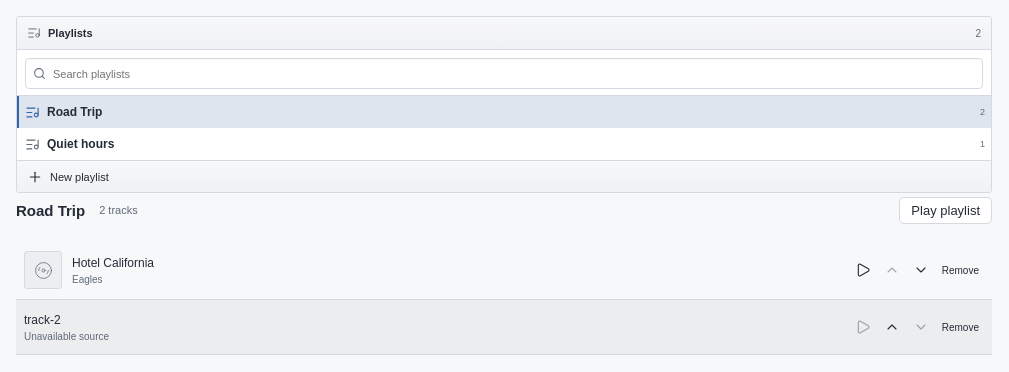
it: PlaylistPanel › selects one playlist from a searchable sidebar instead of showing every track
Check: the text "Hotel California" is shown, box [72,256,154,270]
Check: the text "Nightfall" is not shown
Click the button with aria-label "Open playlist Quiet hours": point(81, 144) [19,128,991,160]
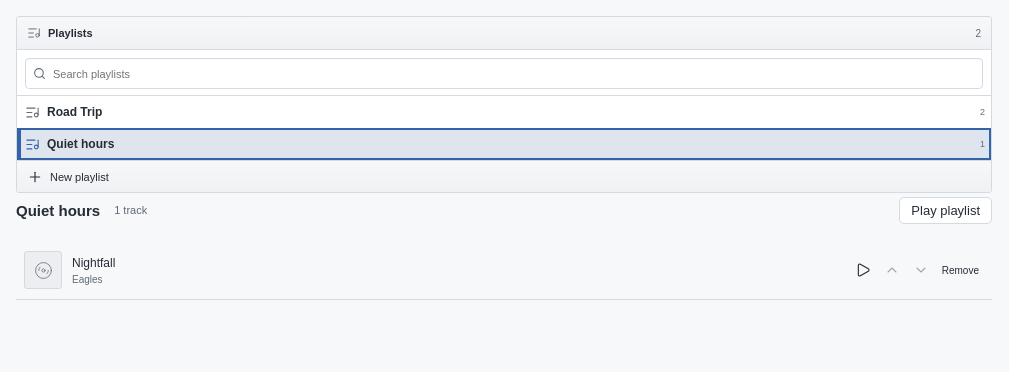
Check: the text "Nightfall" is shown, box [72,256,115,270]
Check: the text "Hotel California" is gone
